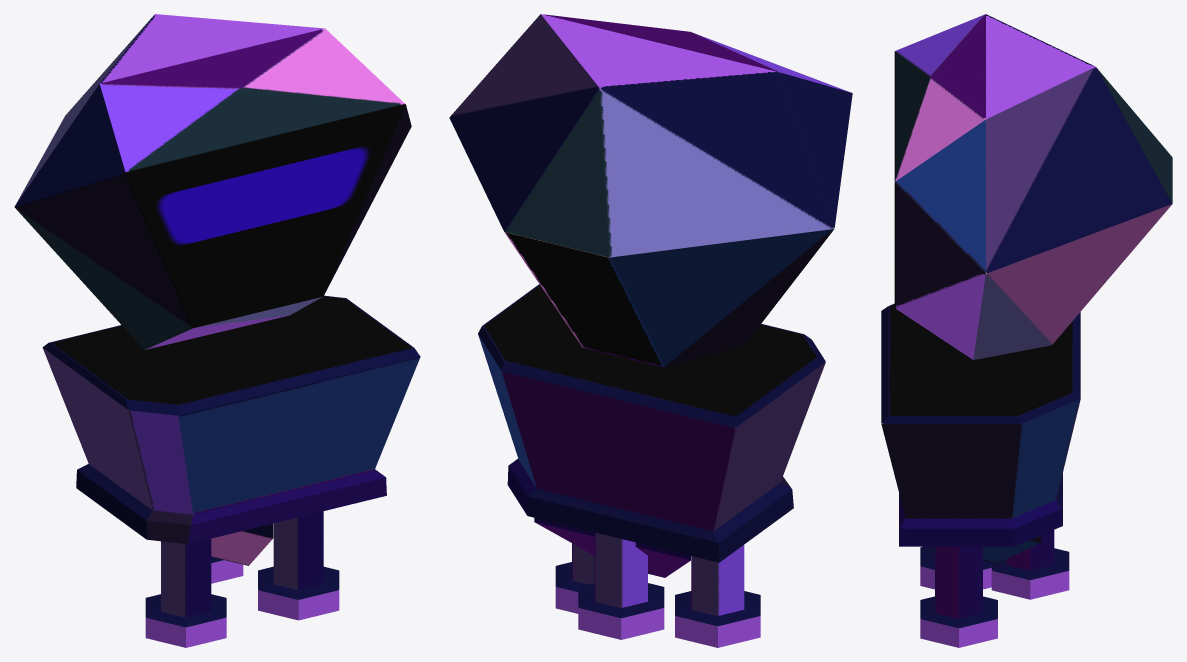
Rendered from playerv1.fbx.
3 renders of one model, left to right at view 1: azimuth 30°, elevation 25°; view 2: azimuth 150°, elevation 25°; view 3: azimuth 270°, elevation 25°, orthographic. The views are drawn at different scales.
Visible parts, largest first — view 1: polySurface9; view 2: polySurface9; view 3: polySurface9.
Boxes of the visible parts, x1,y1,x2,y2 form: polySurface9: [14, 14, 420, 647]; polySurface9: [449, 14, 852, 647]; polySurface9: [881, 14, 1172, 647].
Bounding box in the file's own units: 8.82 × 12.27 × 6.1.
Materials: 1 (1 with a texture image).
